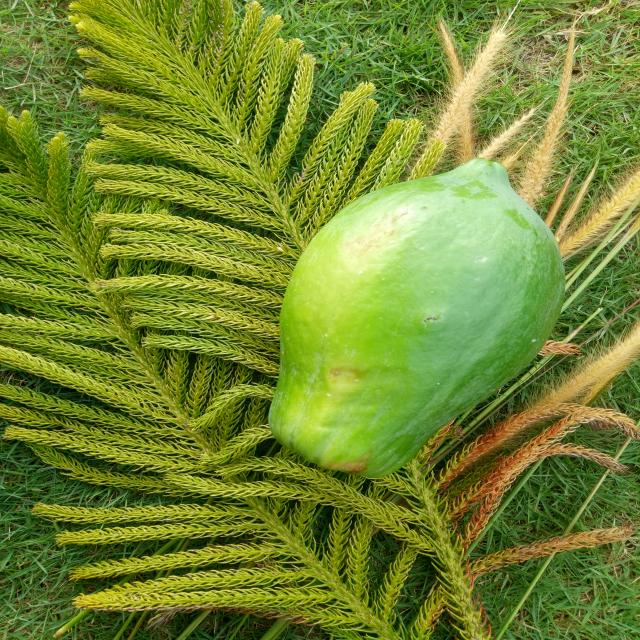Pepaya unrippen: (248, 155, 573, 488)
